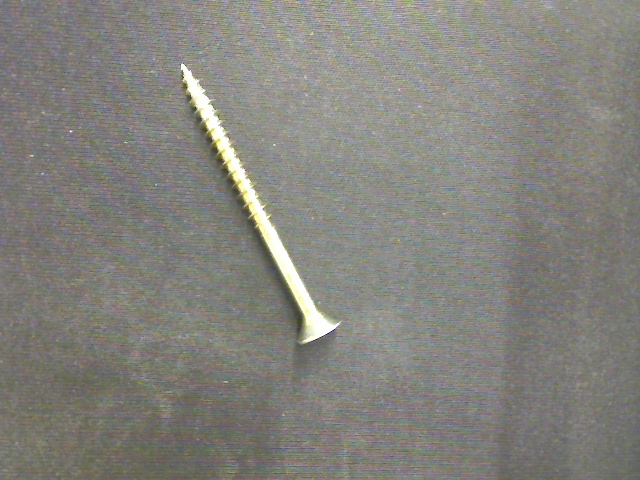screw3: (179, 61, 342, 343)
